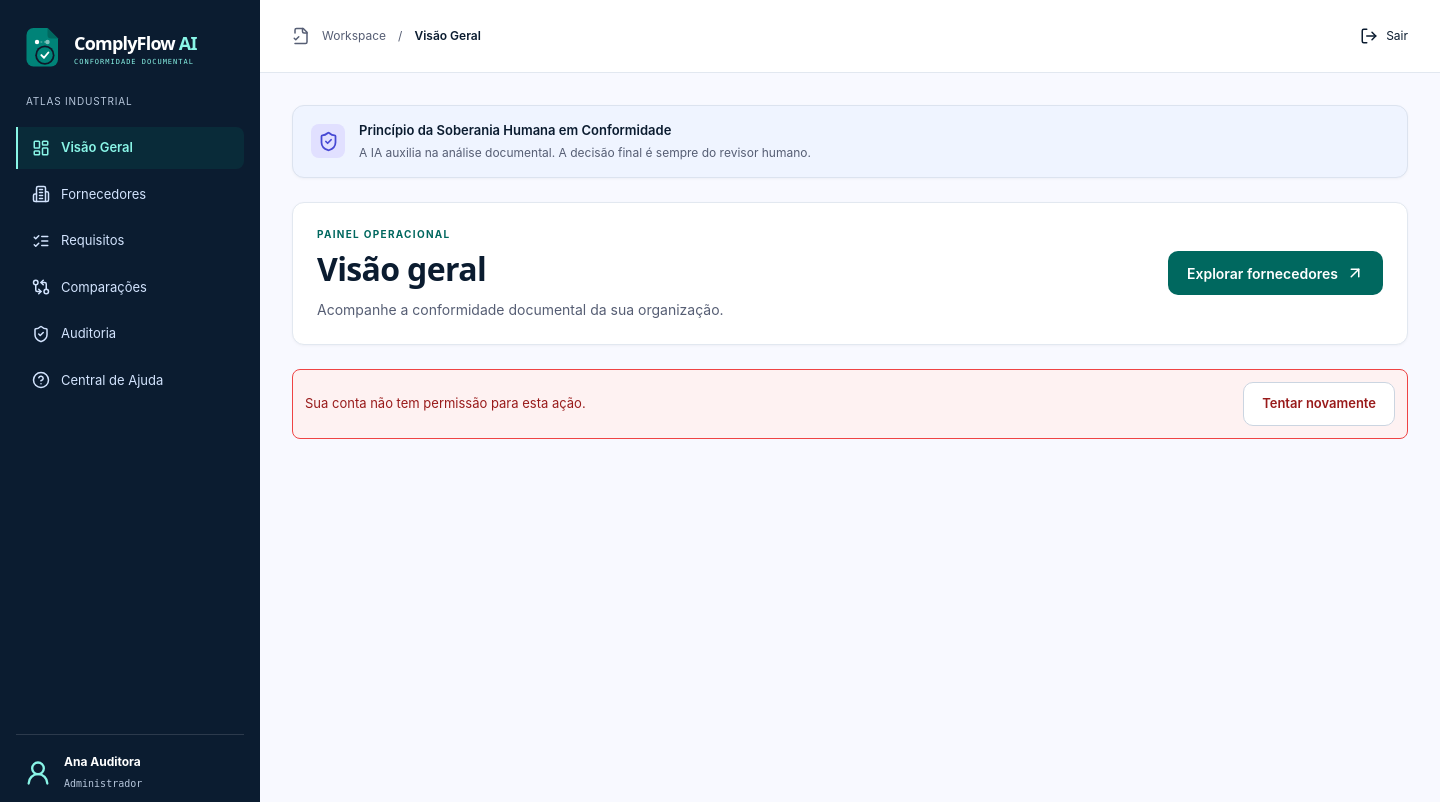
Test case: Dashboard › shows safe permission errors, supports retry and zero-state
Expected: the message shows "permissão", x1=305 y1=395 x2=586 y2=411
Click the button "Tentar novamente": (1319, 404) x1=1243 y1=382 x2=1395 y2=426
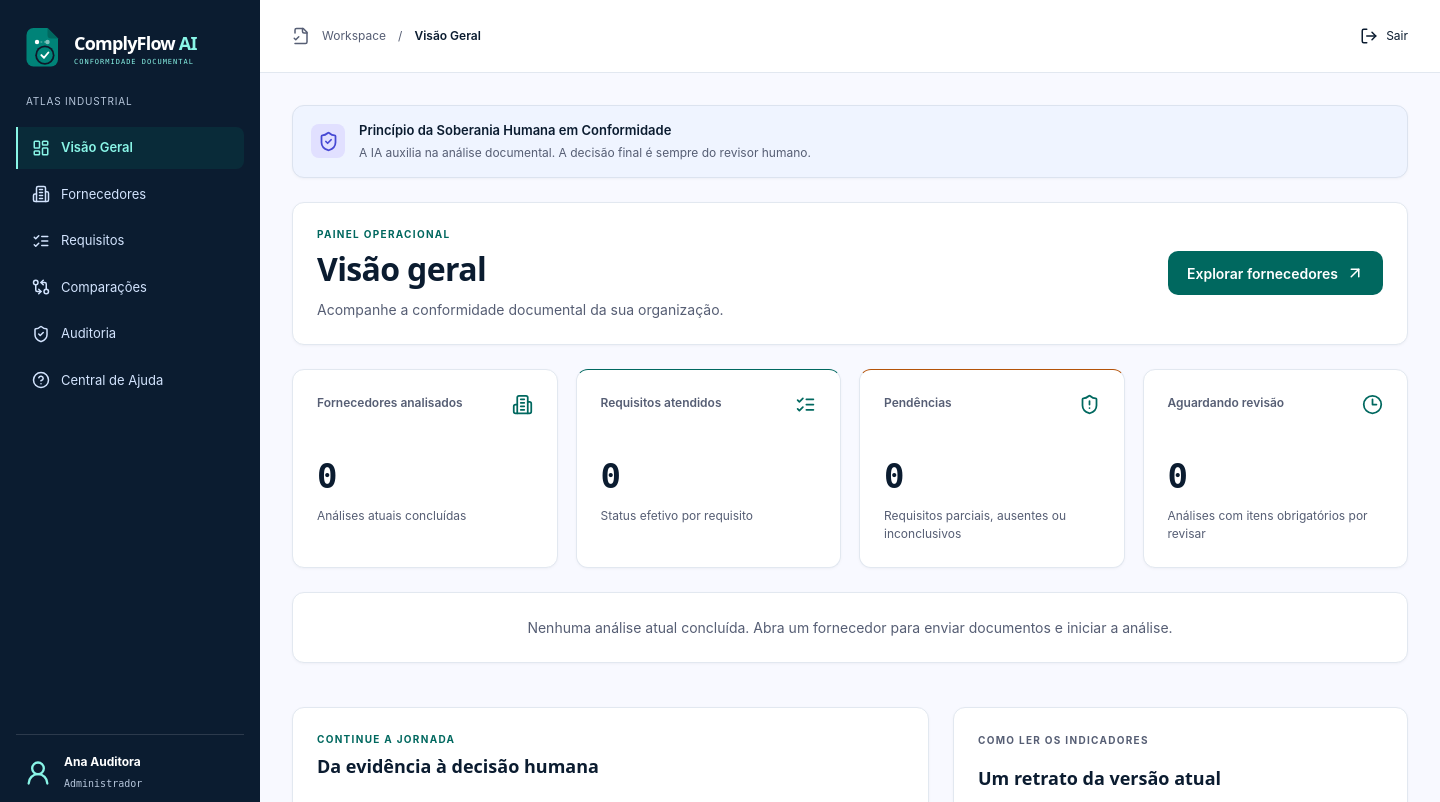
Expected: the text "Nenhuma análise atual concluída" is shown, x1=527 y1=619 x2=1173 y2=636
